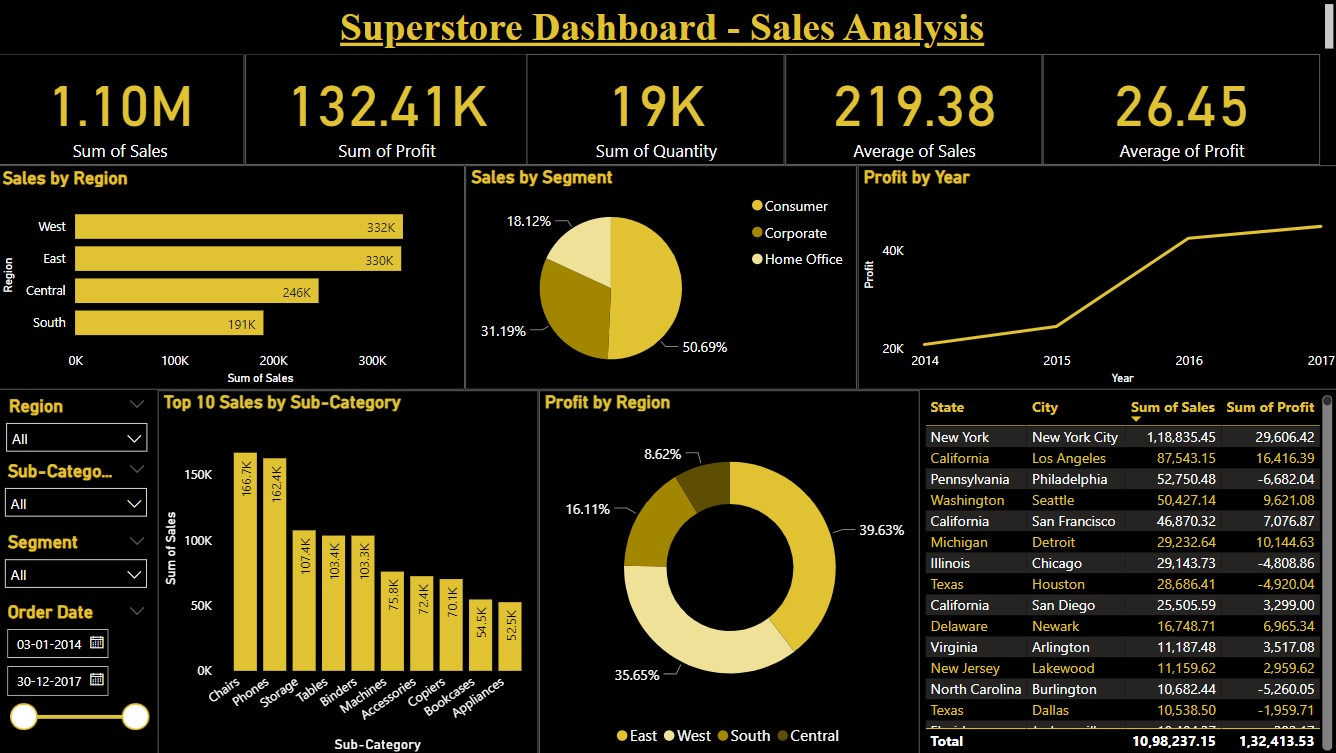

Layout of this report page (visuals, bound fields, positions):
{"tool":"powerbi","page":{"name":"Overview","canvas":[1280,720],"ordinal":0},"visuals":[{"type":"clusteredBarChart","title":"Sales by Region","fields":{"Category":["Sample - Superstore.Region"],"Y":["Sum(Sample - Superstore.Sales)"]},"box":[1.2,158.4,447.5,213.6],"z":0},{"type":"card","fields":{"Values":["Sum(Sample - Superstore.Sales)"]},"box":[0,52.8,238.8,105.6],"z":1000},{"type":"card","fields":{"Values":["Sum(Sample - Superstore.Profit)"]},"box":[238.8,52.8,268.8,105.6],"z":2000},{"type":"textbox","box":[0,0,1280.2,52.8],"z":3000},{"type":"lineChart","title":"Profit by Year","fields":{"Y":["Sum(Sample - Superstore.Profit)"],"Category":["Sample - Superstore.Order Date.Variation.Date Hierarchy.Year","Sample - Superstore.Order Date.Variation.Date Hierarchy.Quarter","Sample - Superstore.Order Date.Variation.Date Hierarchy.Month","Sample - Superstore.Order Date.Variation.Date Hierarchy.Day"]},"box":[821.9,158.4,458.3,213.6],"z":4000},{"type":"slicer","fields":{"Values":["Sample - Superstore.Region"]},"box":[1.2,372,154.8,62.4],"z":5000},{"type":"slicer","fields":{"Values":["Sample - Superstore.Sub-Category"]},"box":[0,434.3,156,68.4],"z":6000},{"type":"slicer","fields":{"Values":["Sample - Superstore.Segment"]},"box":[0,502.7,156,66],"z":7000},{"type":"tableEx","fields":{"Values":["Sample - Superstore.State","Sample - Superstore.City","Sum(Sample - Superstore.Sales)","Sum(Sample - Superstore.Profit)"]},"box":[880.7,372,398.4,348],"z":8000},{"type":"pieChart","title":"Sales by Segment","fields":{"Category":["Sample - Superstore.Segment"],"Y":["Sum(Sample - Superstore.Sales)"]},"box":[448.7,158.4,373.2,213.6],"z":9000},{"type":"card","fields":{"Values":["Sum(Sample - Superstore.Quantity)"]},"box":[507.5,52.8,246,105.6],"z":10000},{"type":"card","fields":{"Values":["Avg(Sample - Superstore.Sales)"]},"box":[753.5,52.8,244.8,105.6],"z":11000},{"type":"card","fields":{"Values":["Avg(Sample - Superstore.Profit)"]},"box":[998.3,52.8,264,105.6],"z":12000},{"type":"slicer","fields":{"Values":["Sample - Superstore.Order Date"]},"box":[0,568.9,155.9,151.1],"z":13000},{"type":"clusteredColumnChart","title":"Top 10 Sales by Sub-Category","fields":{"Y":["Sum(Sample - Superstore.Sales)"],"Category":["Sample - Superstore.Sub-Category"]},"box":[156,372,362.4,348],"z":14000},{"type":"donutChart","title":"Profit by Region","fields":{"Y":["Sum(Sample - Superstore.Profit)"],"Category":["Sample - Superstore.Region"]},"box":[518.3,372,362.4,348],"z":15000}]}

Visuals, with their boxes in screenshot pixels (x1, y1, x2, y2), scaled from the page's 1280x720 canvas onto the 1336x753 screenshot:
"Sales by Region" clusteredBarChart: <region>1, 166, 468, 389</region>
card - Sum(Sample - Superstore.Sales): <region>0, 55, 249, 166</region>
card - Sum(Sample - Superstore.Profit): <region>249, 55, 530, 166</region>
textbox: <region>0, 0, 1335, 55</region>
"Profit by Year" lineChart: <region>858, 166, 1335, 389</region>
slicer - Sample - Superstore.Region: <region>1, 389, 163, 454</region>
slicer - Sample - Superstore.Sub-Category: <region>0, 454, 163, 526</region>
slicer - Sample - Superstore.Segment: <region>0, 526, 163, 595</region>
tableEx - Sample - Superstore.State x Sample - Superstore.City: <region>919, 389, 1335, 752</region>
"Sales by Segment" pieChart: <region>468, 166, 858, 389</region>
card - Sum(Sample - Superstore.Quantity): <region>530, 55, 786, 166</region>
card - Avg(Sample - Superstore.Sales): <region>786, 55, 1042, 166</region>
card - Avg(Sample - Superstore.Profit): <region>1042, 55, 1318, 166</region>
slicer - Sample - Superstore.Order Date: <region>0, 595, 163, 752</region>
"Top 10 Sales by Sub-Category" clusteredColumnChart: <region>163, 389, 541, 752</region>
"Profit by Region" donutChart: <region>541, 389, 919, 752</region>
